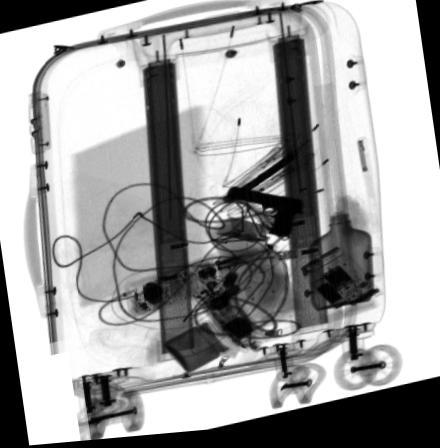Gun: (224, 191, 305, 241)
